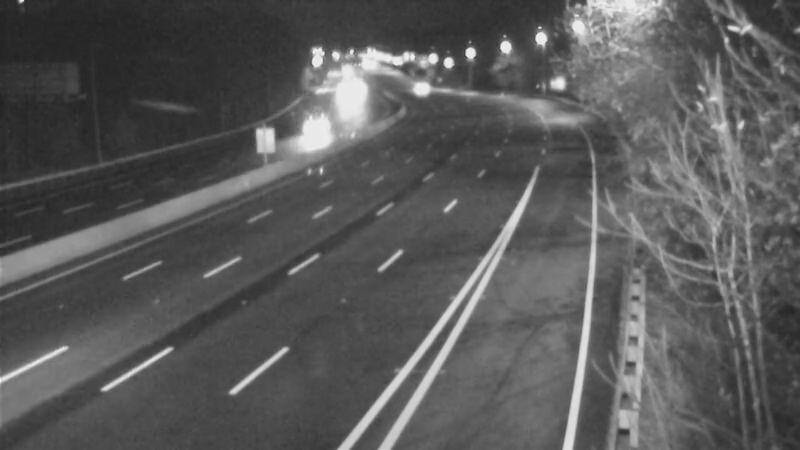vehicle: (391, 60, 441, 110), (302, 102, 352, 152), (324, 78, 374, 128)
